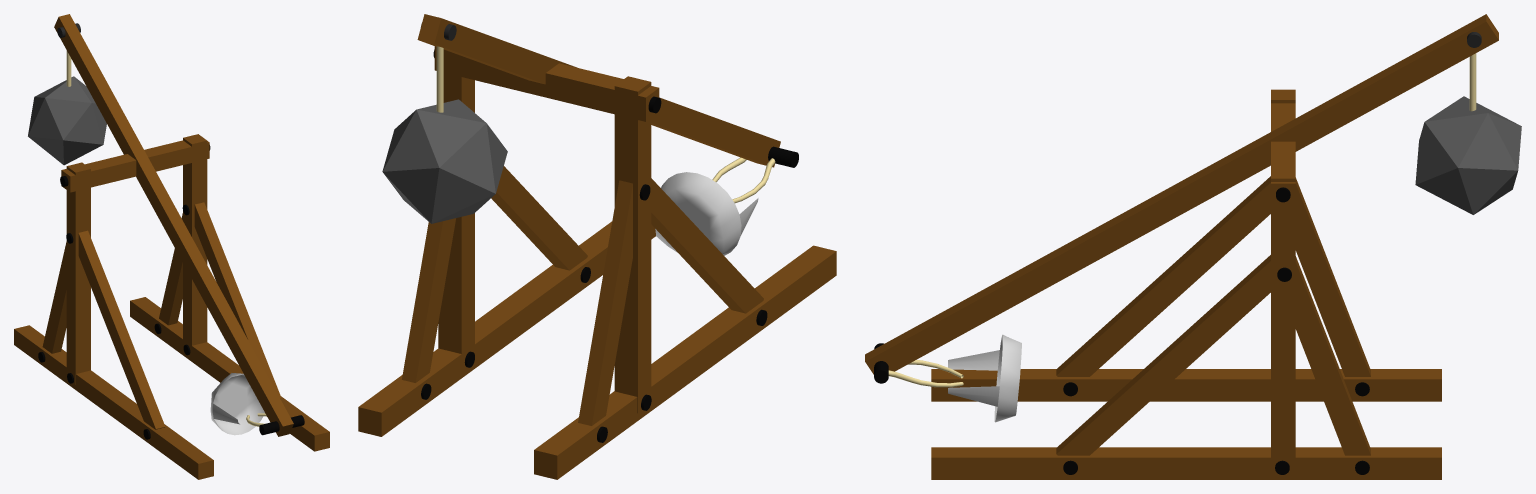
The model's file is Trebuchet.fbx.
3 renders of one model, left to right at view 1: azimuth 30°, elevation 25°; view 2: azimuth 150°, elevation 25°; view 3: azimuth 270°, elevation 25°, orthographic. The views are drawn at different scales.
Parts seen in each view (by area): view 1: pCylinder14; view 2: pCylinder14; view 3: pCylinder14.
Part boxes in pixels (<box>): pCylinder14: <box>14,14,329,479</box>; pCylinder14: <box>358,14,836,479</box>; pCylinder14: <box>865,14,1521,479</box>.
Size of the model in its own units: 2.11 by 4.2 by 5.98.
